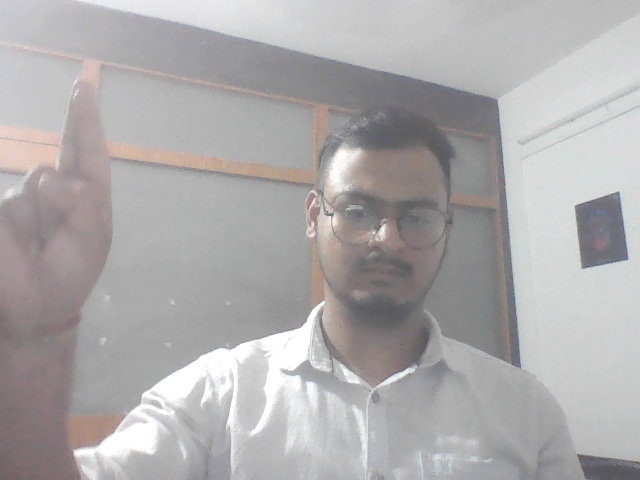GoodLuck: (1, 61, 120, 332)
